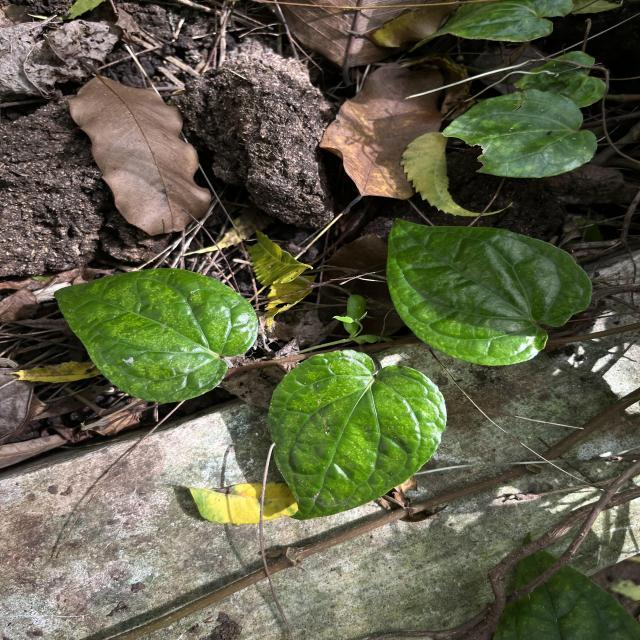Piper betle: (384, 214, 596, 368), (264, 347, 450, 522), (52, 266, 261, 405)
